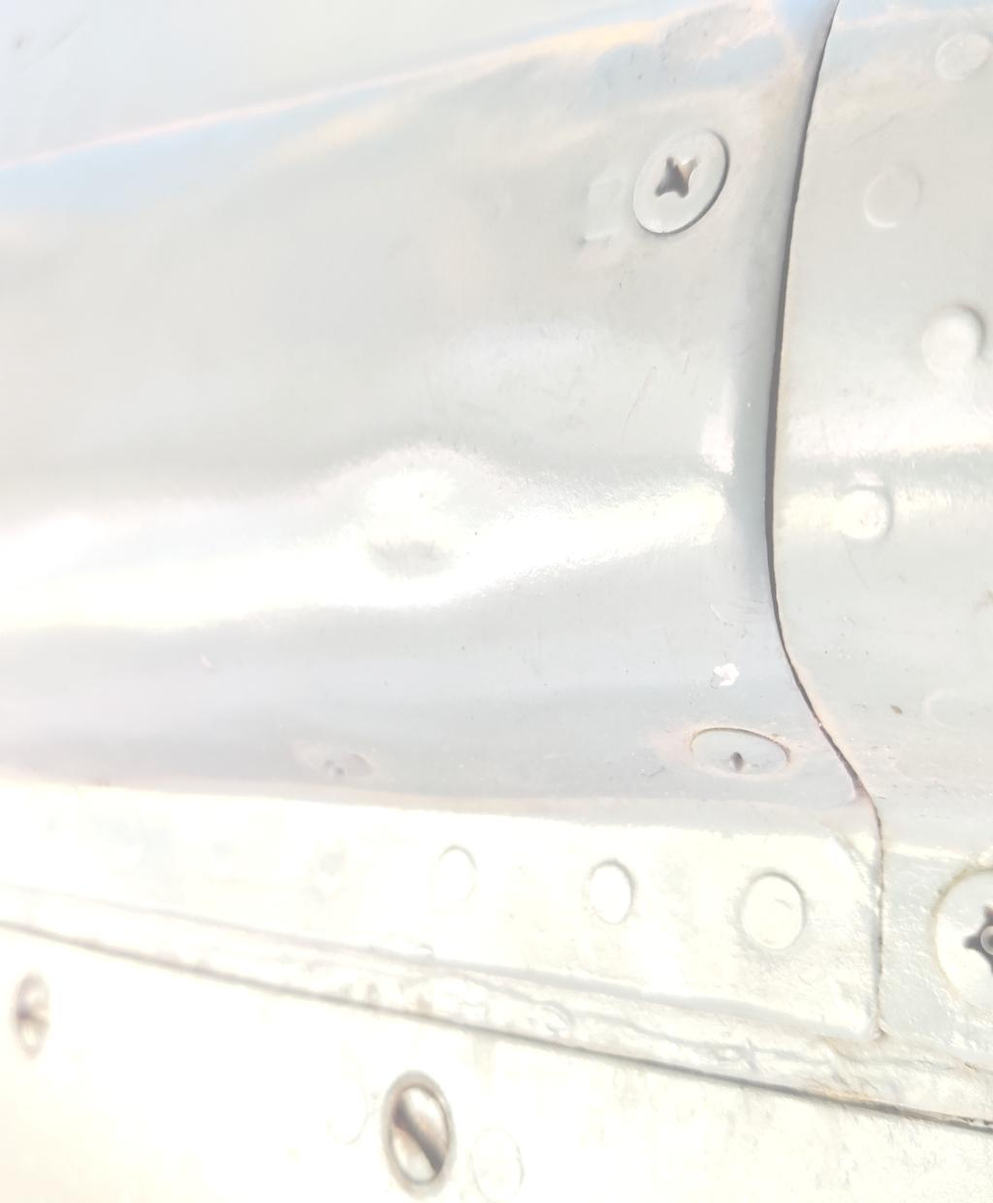dent: (306, 402, 527, 624)
